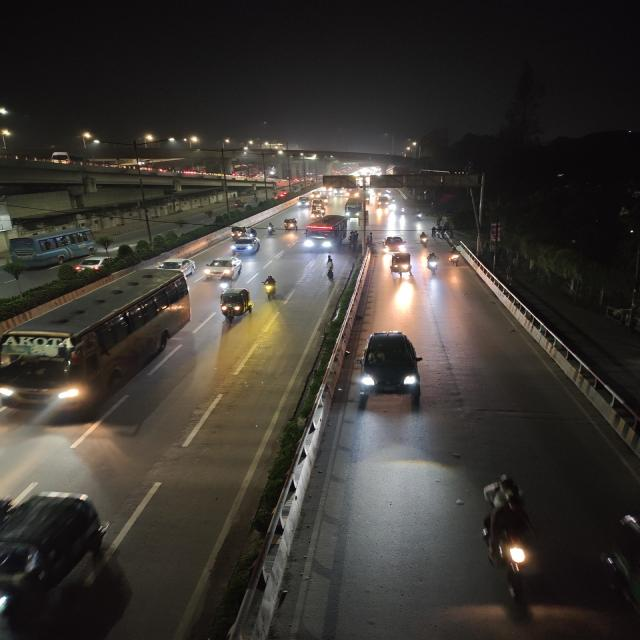bus: (0, 274, 188, 416), (7, 226, 96, 265), (300, 214, 348, 255), (342, 198, 364, 218)
car: (351, 327, 430, 410), (202, 256, 243, 280), (155, 256, 196, 277), (228, 234, 262, 256), (381, 234, 408, 254)
cng: (216, 286, 256, 328), (386, 251, 415, 279), (228, 224, 247, 240), (281, 216, 299, 232), (309, 209, 321, 221)
motorcycle: (258, 274, 282, 302), (424, 250, 442, 278), (447, 246, 462, 268), (282, 216, 300, 232), (418, 232, 431, 248), (264, 222, 276, 238), (430, 226, 442, 242)
pedestrian: (324, 253, 335, 280), (348, 232, 357, 251), (367, 230, 374, 246)
pickup_van: (294, 197, 313, 209)
